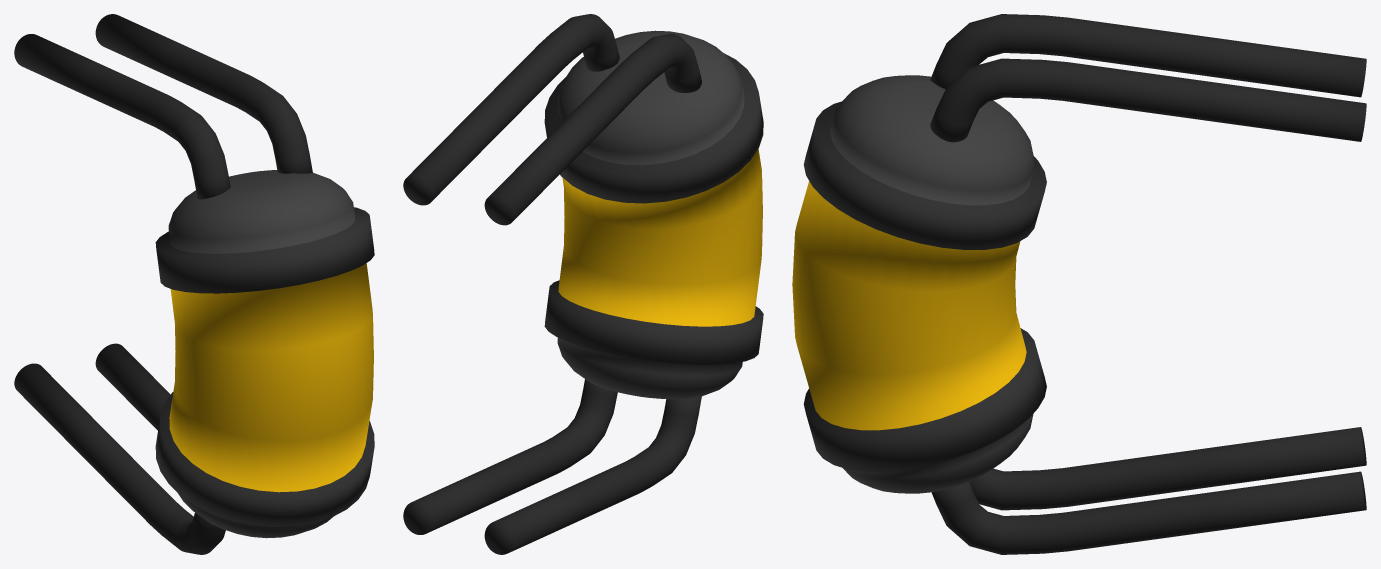
The model's file is lampada.fbx.
The picture shows the model from 3 angles, left to right: view 1: azimuth 30°, elevation 25°; view 2: azimuth 150°, elevation 25°; view 3: azimuth 270°, elevation 25°; orthographic projection. The views are drawn at different scales.
Parts seen in each view (by area): view 1: Cylinder.010; view 2: Cylinder.010; view 3: Cylinder.010.
Part boxes in pixels (left/top/right/bottom): Cylinder.010: left=14, top=14, right=374, bottom=554; Cylinder.010: left=403, top=14, right=763, bottom=554; Cylinder.010: left=792, top=14, right=1366, bottom=554.
Bounding box in the file's own units: 219 × 486 × 513.
